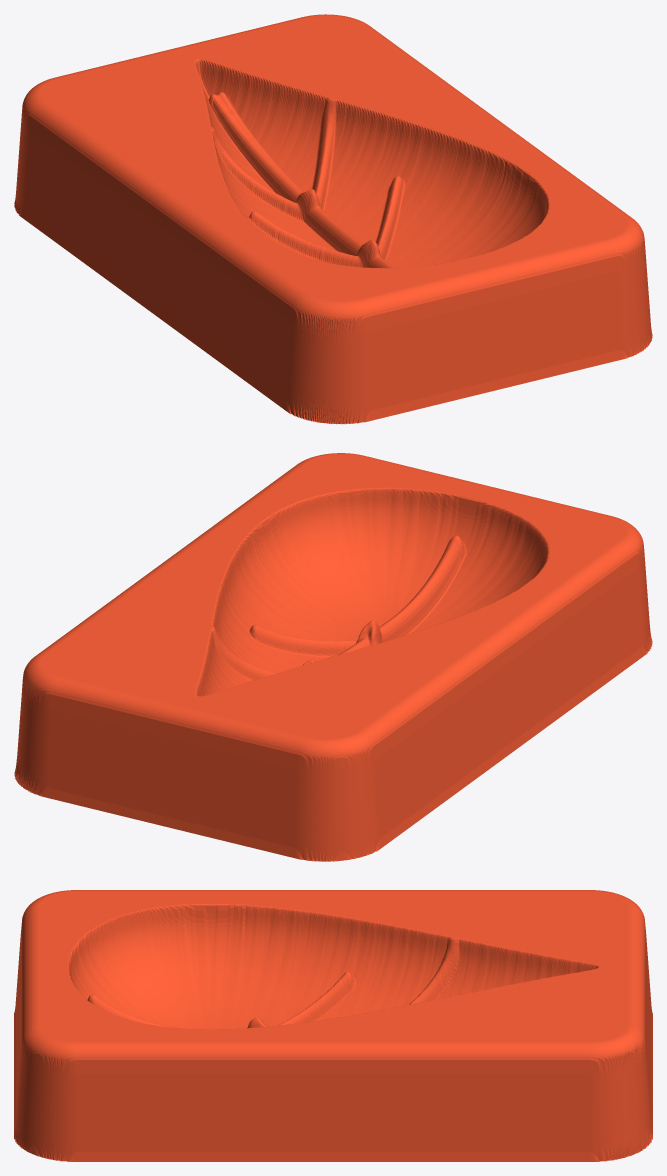
File: mold.glb
The picture shows the model from 3 angles, top to bottom: view 1: azimuth 30°, elevation 25°; view 2: azimuth 150°, elevation 25°; view 3: azimuth 270°, elevation 25°; orthographic projection. The views are drawn at different scales.
Parts seen in each view (by area): view 1: geometry_0; view 2: geometry_0; view 3: geometry_0.
Boxes of the visible parts, x1,y1,x2,y2 form: geometry_0: [14, 14, 652, 424]; geometry_0: [14, 453, 652, 861]; geometry_0: [14, 890, 652, 1161].
Size of the model in its own units: 0.0586 by 0.0175 by 0.0924.
